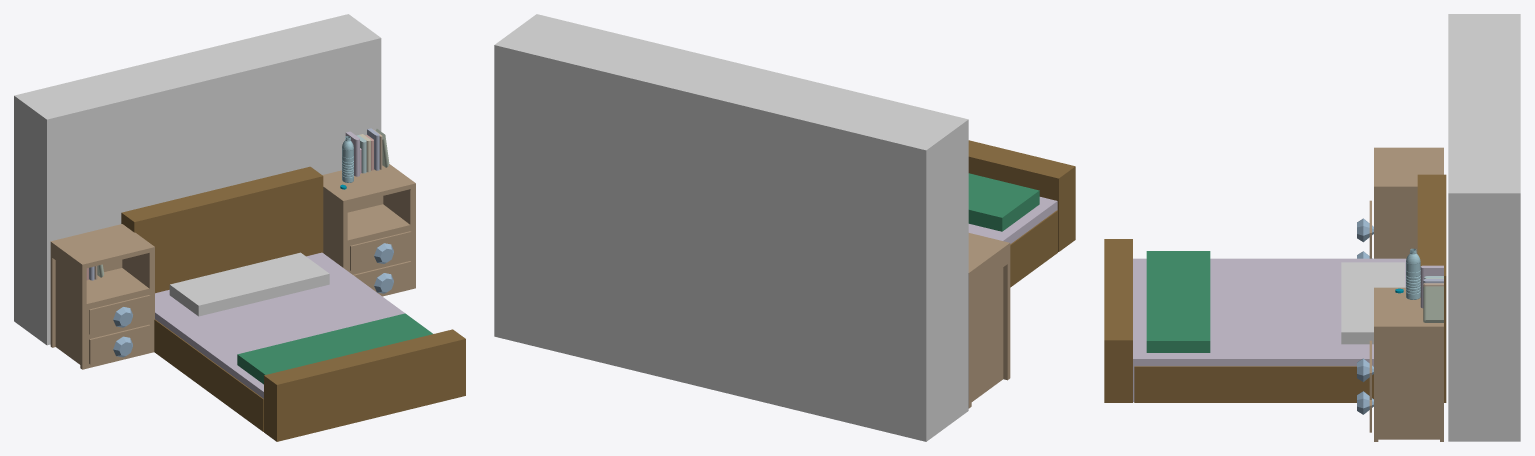
3 renders of one model, left to right at view 1: azimuth 30°, elevation 25°; view 2: azimuth 150°, elevation 25°; view 3: azimuth 270°, elevation 25°, orthographic. The views are drawn at different scales.
Parts seen in each view (by area): view 1: Mesh_Mesh_head_geo.001_lambert2SG.001; view 2: Mesh_Mesh_head_geo.001_lambert2SG.001; view 3: Mesh_Mesh_head_geo.001_lambert2SG.001.
Part boxes in pixels (x1,y1,x2,y2): Mesh_Mesh_head_geo.001_lambert2SG.001: (14,14,465,441); Mesh_Mesh_head_geo.001_lambert2SG.001: (494,14,1075,441); Mesh_Mesh_head_geo.001_lambert2SG.001: (1104,14,1520,441).
Size of the model in its own units: 200 by 129 by 196.
